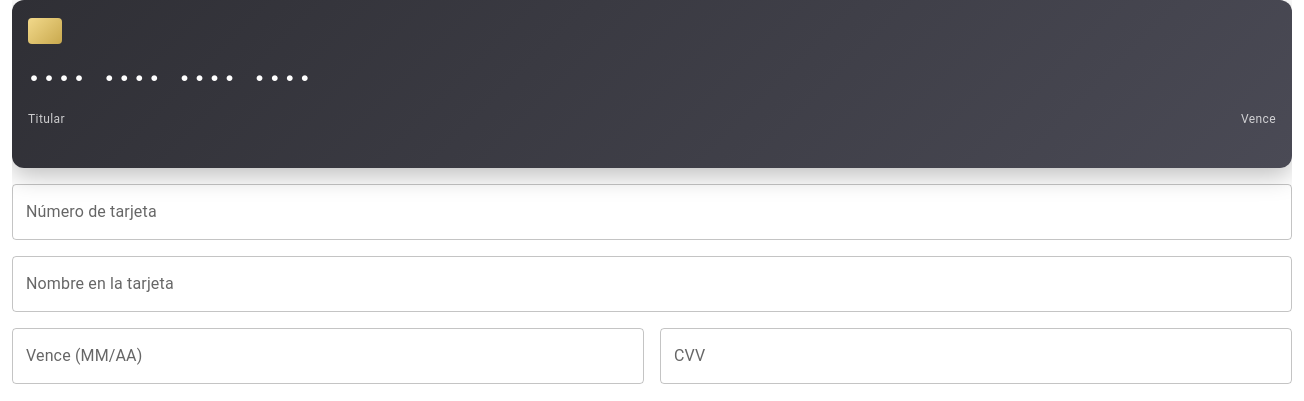
it: el campo de vencimiento › pone la barra sola al escribir el año, sin teclearla
The image size is (1304, 401).
Type "1230" into the field labelled "Vence (MM/AA)" at (328, 356), box 12,328 -> 644,384
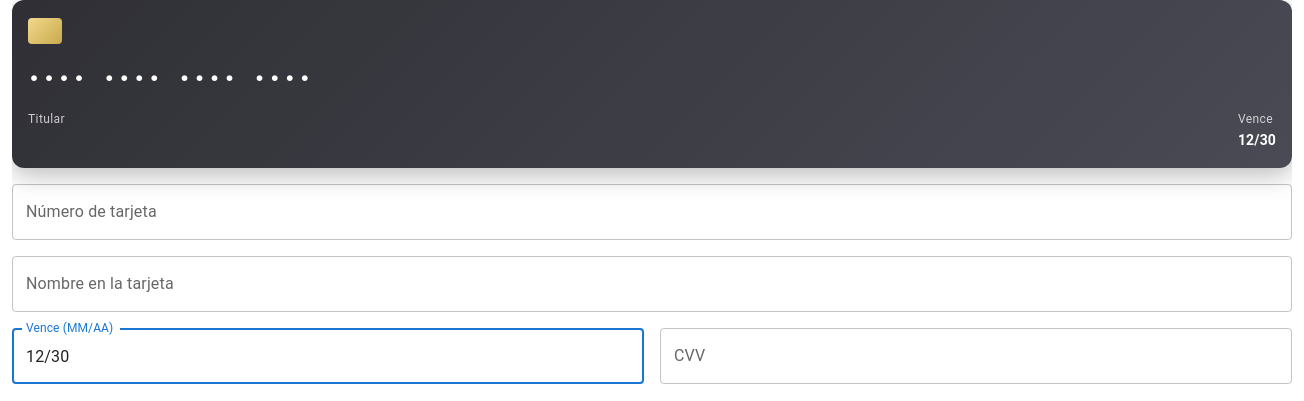
Expected: the field labelled "Vence (MM/AA)" holds "12/30", 12,328 -> 644,384
